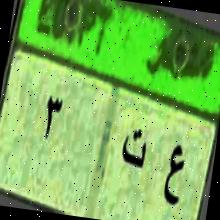3: (39, 86, 67, 146)
ain: (158, 133, 192, 212)
taa: (116, 116, 154, 177)
